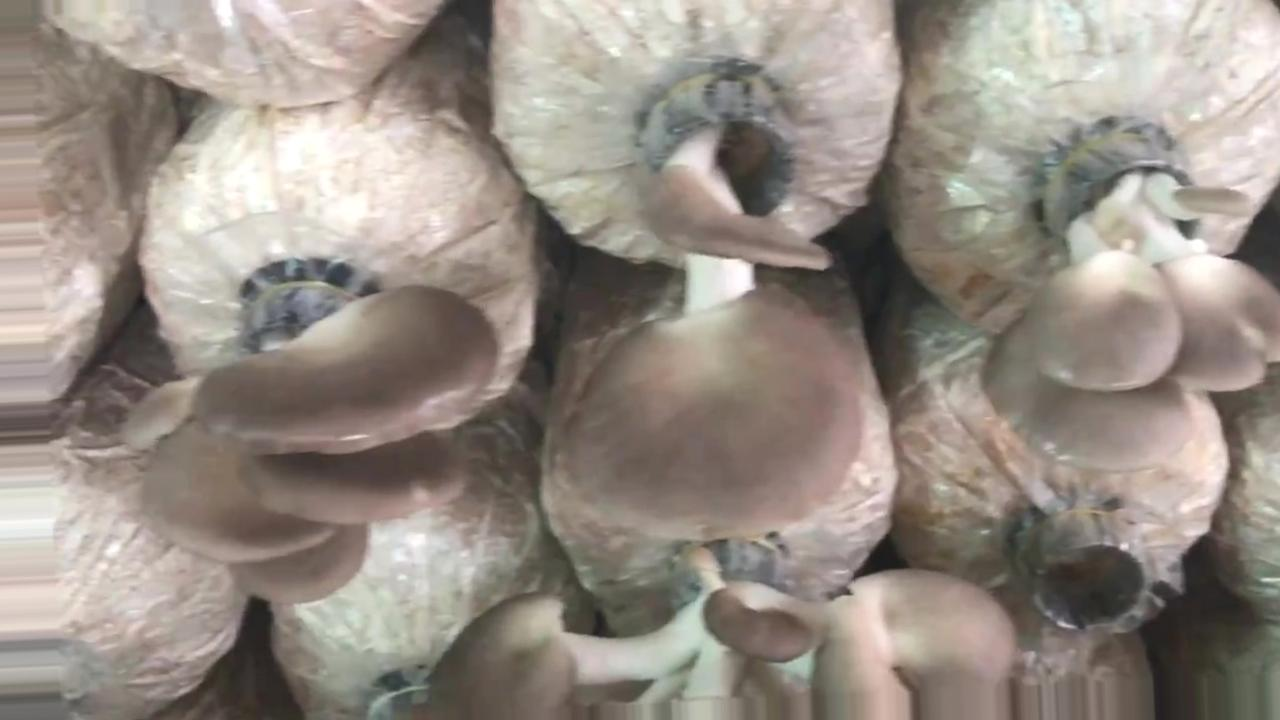nam: (555, 66, 864, 543), (120, 266, 505, 612), (420, 545, 1018, 720), (985, 114, 1273, 473)
